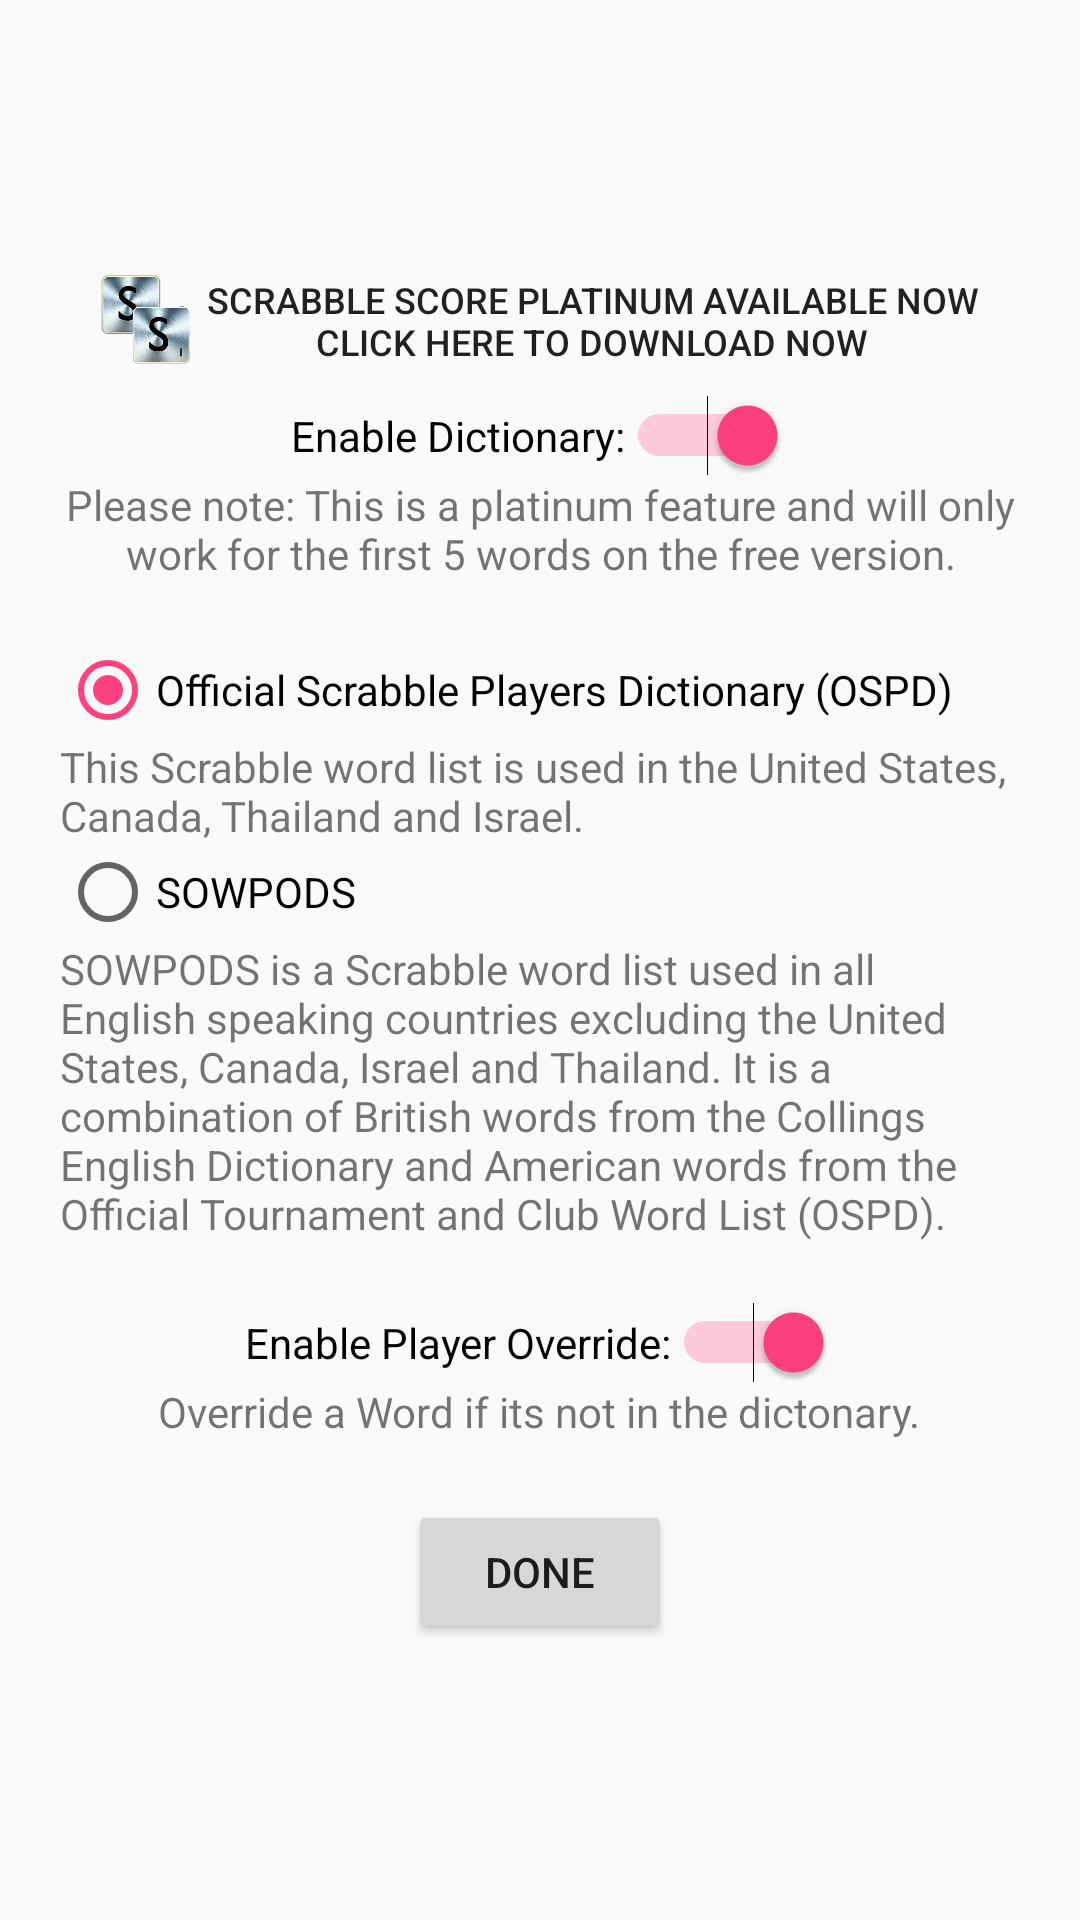

Screen size 1080 × 1920. Icon name, then its center in pixels as (x=x, y=y):
iconp: (x=145, y=319)
